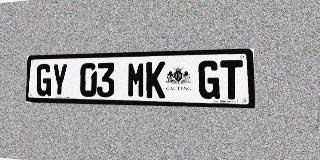0: (80, 63, 97, 97)
3: (97, 62, 115, 97)
G: (198, 60, 220, 99), (36, 64, 52, 96)
K: (146, 61, 165, 98)
M: (127, 62, 146, 98)
T: (220, 60, 243, 100)
Y: (51, 63, 68, 97)
